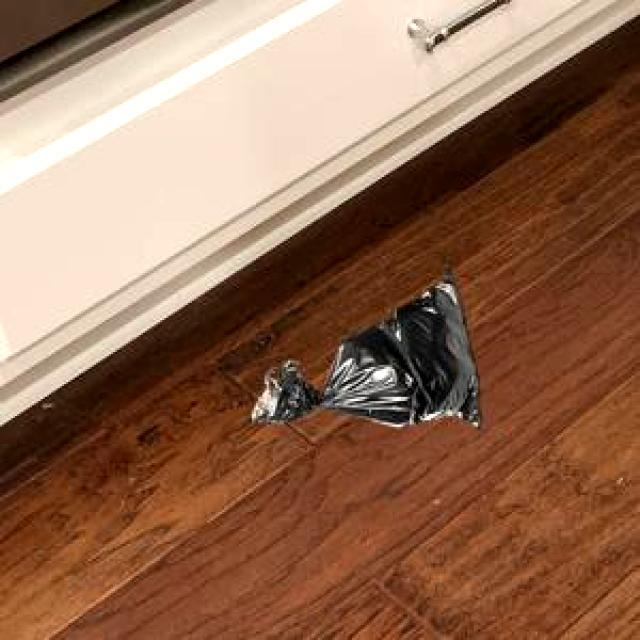Garbage_Bag: (249, 263, 478, 428)
